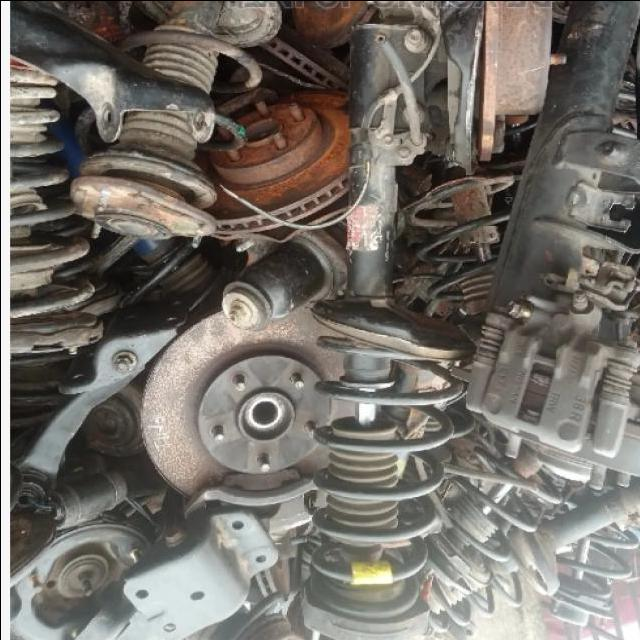shock absorber: (302, 16, 476, 639), (10, 58, 102, 354)
